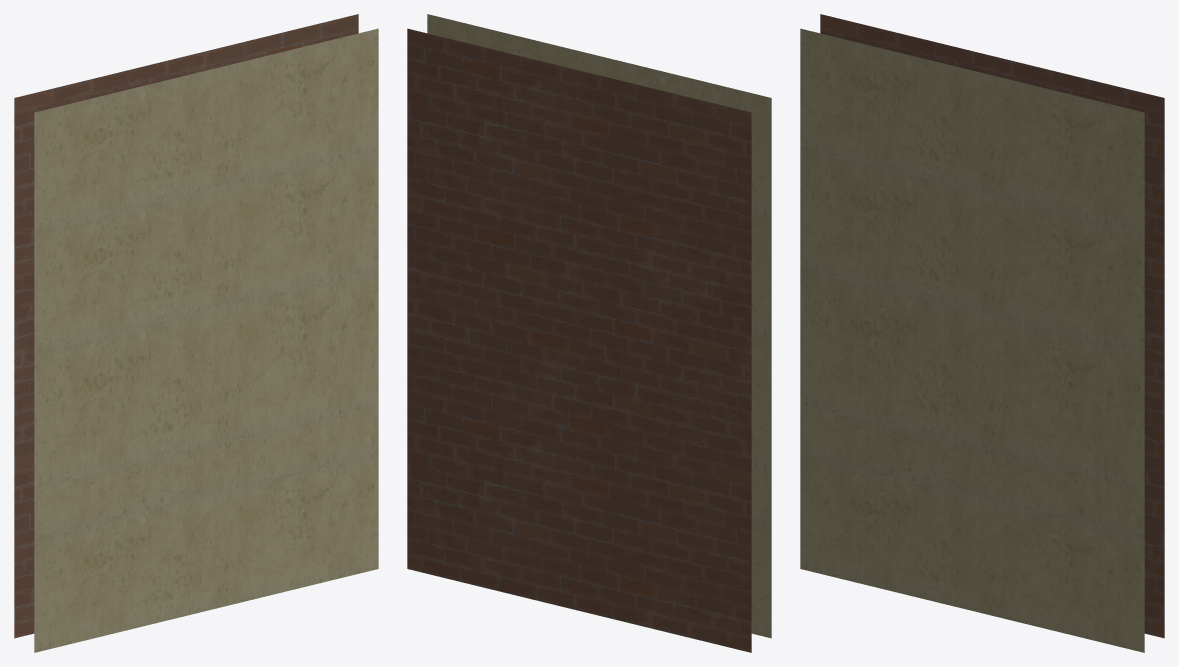
Rendered from Trim_Plain_3.gltf.
The picture shows the model from 3 angles, left to right: view 1: azimuth 30°, elevation 25°; view 2: azimuth 150°, elevation 25°; view 3: azimuth 330°, elevation 25°; orthographic projection.
Parts seen in each view (by area): view 1: Trim_Plain_3; view 2: Trim_Plain_3; view 3: Trim_Plain_3.
Boxes of the visible parts, left/top/right/bottom form: Trim_Plain_3: left=14, top=14, right=378, bottom=652; Trim_Plain_3: left=407, top=14, right=771, bottom=652; Trim_Plain_3: left=800, top=14, right=1164, bottom=652.
Size of the model in its own units: 2 by 3 by 0.2.
Materials: 2 (2 with a texture image).
